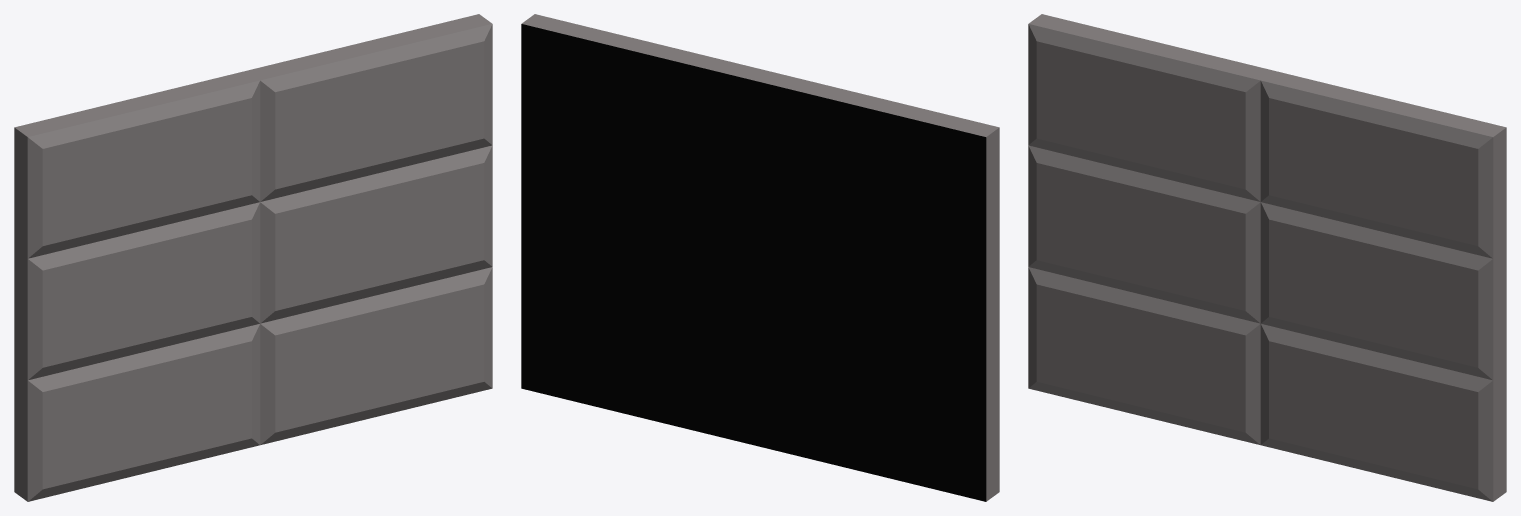
File: scifi-wall.glb
3 renders of one model, left to right at view 1: azimuth 30°, elevation 25°; view 2: azimuth 150°, elevation 25°; view 3: azimuth 330°, elevation 25°, orthographic.
Parts seen in each view (by area): view 1: scifi-wall; view 2: scifi-wall; view 3: scifi-wall.
Boxes of the visible parts, x1,y1,x2,y2 form: scifi-wall: [14, 14, 492, 501]; scifi-wall: [521, 14, 999, 501]; scifi-wall: [1028, 14, 1506, 501].
Bounding box in the file's own units: 4 × 3 × 0.25.
1 material, 1 textured.
